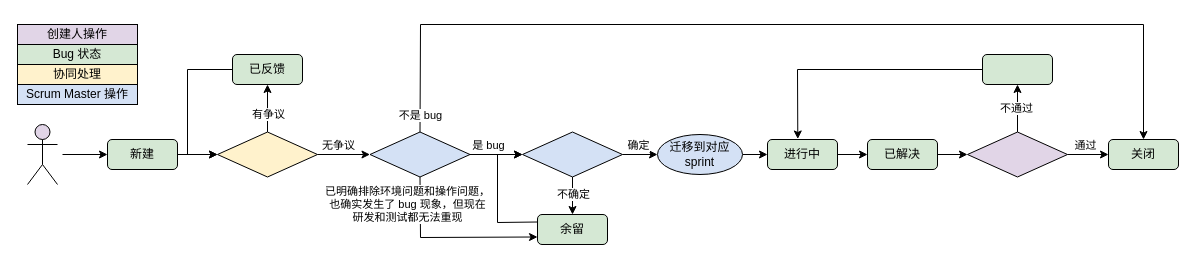
The diagram is 1196 pixels wide and 263 high, and some of its shapes have lost their labels. Here are the shapes that lost their labels. From the top down, the centre of each, then its label:
At pixel 1017 69: "再打开".
At pixel 42 154: "创建人".
At pixel 267 154: "review".
At pixel 419 154: "是否 bug".
At pixel 572 154: "排期".
At pixel 1017 154: "验证".
